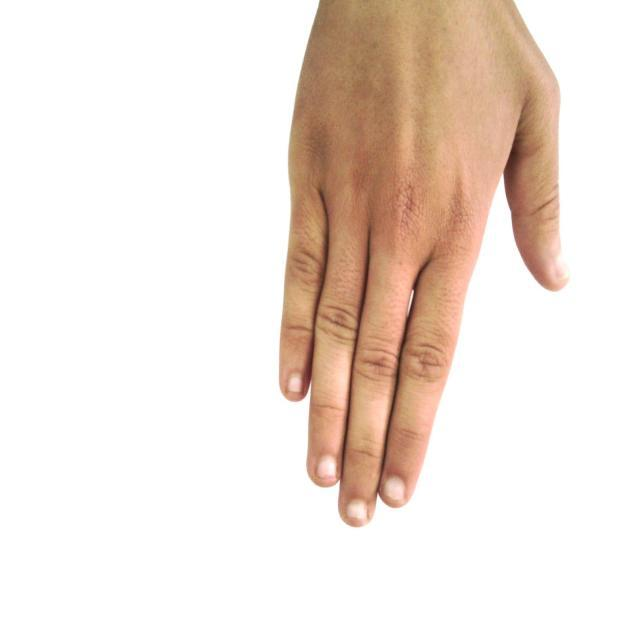Fingernail: (384, 475, 406, 499), (317, 454, 338, 477), (346, 499, 368, 519), (555, 256, 570, 280), (288, 372, 304, 393)
